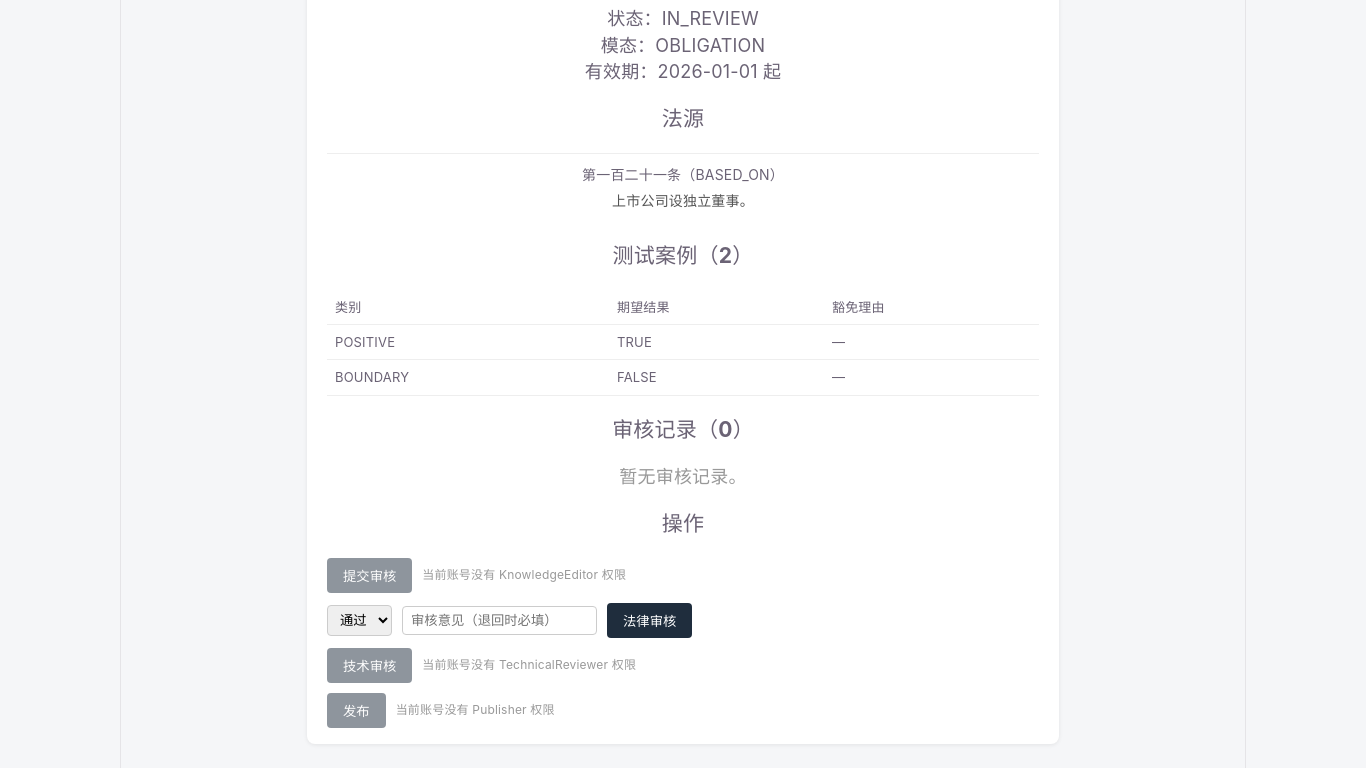
Test: RuleDetailView › requires a review comment when requesting changes
(page scrolled)
Select "退回" in the dropdown at (360, 620), box [327,605,392,636]
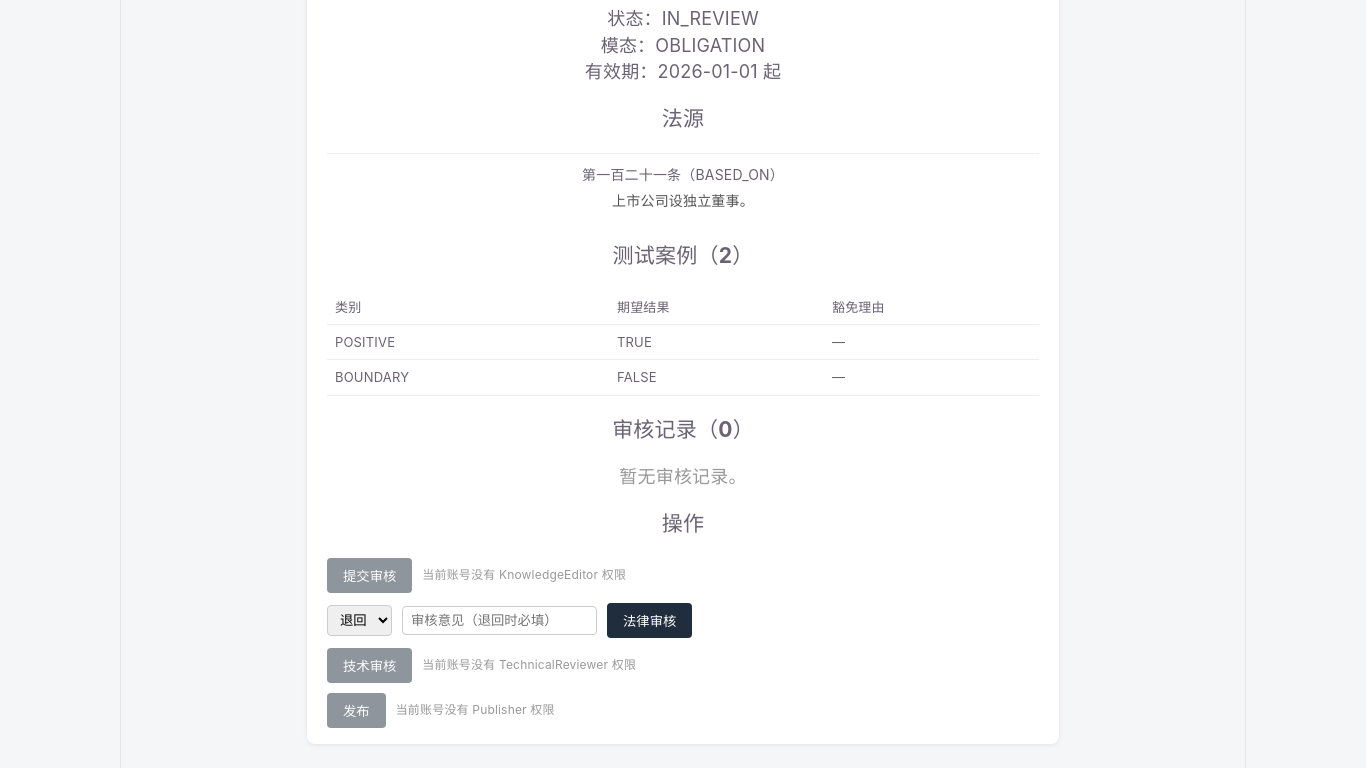
Click the button "法律审核".
click(650, 620)  # box [607,603,692,638]
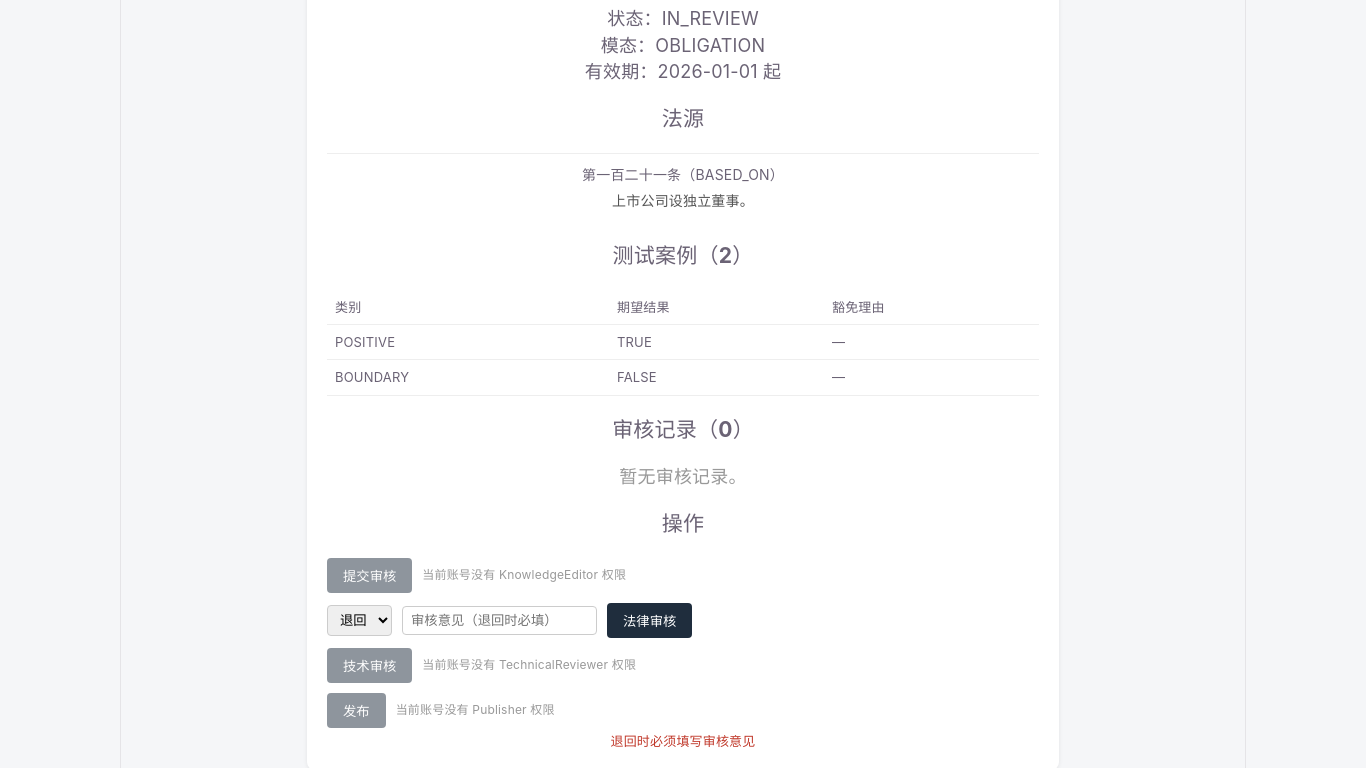
Expected: the text "退回时必须填写审核意见" is shown, [610,733,756,749]
